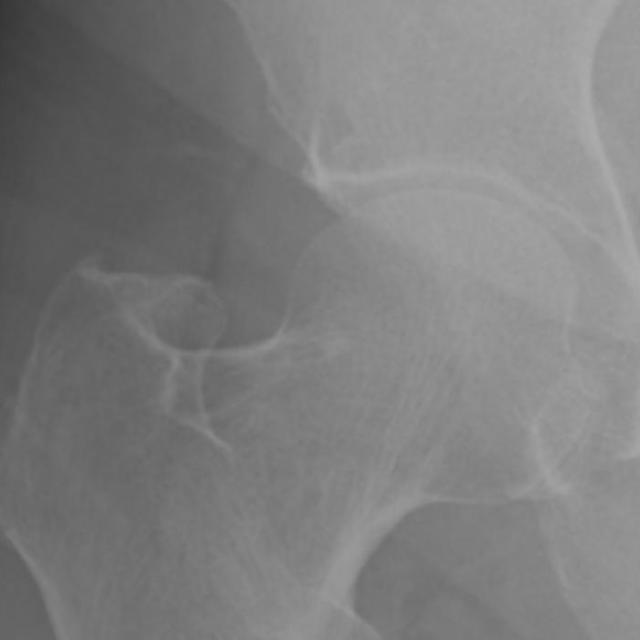Fitted_femural_head: (330, 189, 432, 330)
